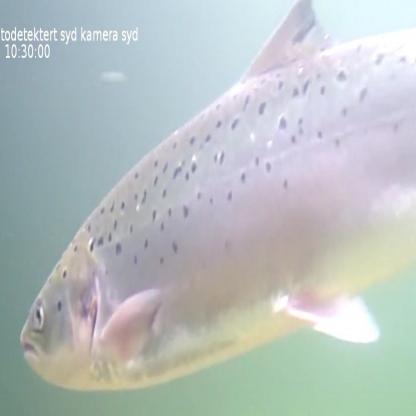salmon: (20, 0, 415, 394)
